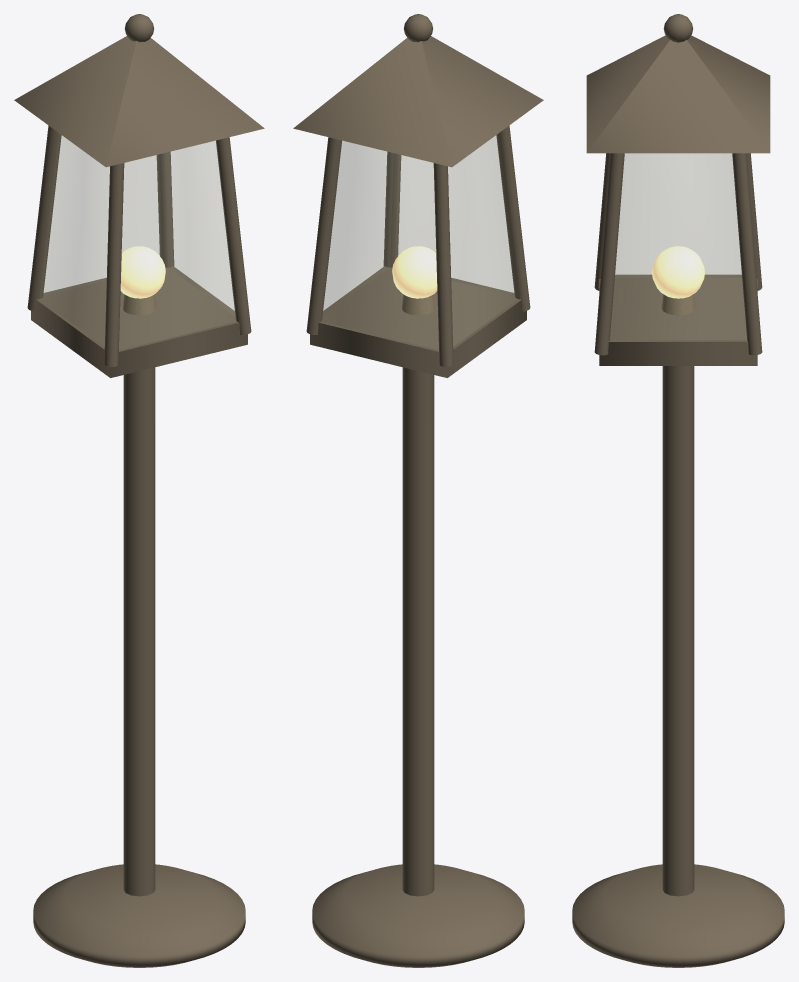
Rendered from lantern.glb.
3 renders of one model, left to right at view 1: azimuth 30°, elevation 25°; view 2: azimuth 150°, elevation 25°; view 3: azimuth 270°, elevation 25°, orthographic.
Visible parts, largest first — view 1: four-sided-lantern-glass, pitched-lantern-roof, continuous-lantern-post, planted-lantern-base, receiving-lantern-floor, lantern-corner--1-1, lantern-corner-1-1, lantern-corner--1--1, protected-lantern-bulb-globe, lantern-corner-1--1, lantern-roof-finial, protected-lantern-bulb-socket; view 2: four-sided-lantern-glass, pitched-lantern-roof, continuous-lantern-post, planted-lantern-base, receiving-lantern-floor, lantern-corner--1--1, lantern-corner-1--1, lantern-corner--1-1, protected-lantern-bulb-globe, lantern-corner-1-1, lantern-roof-finial, protected-lantern-bulb-socket; view 3: four-sided-lantern-glass, pitched-lantern-roof, continuous-lantern-post, planted-lantern-base, receiving-lantern-floor, lantern-corner-1--1, lantern-corner-1-1, protected-lantern-bulb-globe, lantern-corner--1--1, lantern-corner--1-1, lantern-roof-finial, protected-lantern-bulb-socket.
Part boxes in pixels (x1,y1,x2,y2): four-sided-lantern-glass: (40,134,235,349); pitched-lantern-roof: (14,36,264,167); continuous-lantern-post: (123,305,155,896); planted-lantern-base: (33,864,245,967); receiving-lantern-floor: (31,266,247,377); lantern-corner--1-1: (104,163,124,366); lantern-corner-1-1: (216,137,251,334); lantern-corner--1--1: (27,125,61,311); protected-lantern-bulb-globe: (120,246,165,298); lantern-corner-1--1: (156,152,174,267); lantern-roof-finial: (124,14,154,42); protected-lantern-bulb-socket: (123,294,155,315); four-sided-lantern-glass: (322,134,517,349); pitched-lantern-roof: (293,36,543,167); continuous-lantern-post: (402,305,434,896); planted-lantern-base: (312,864,524,967); receiving-lantern-floor: (310,266,526,377); lantern-corner--1--1: (433,163,453,366); lantern-corner-1--1: (306,137,341,334); lantern-corner--1-1: (496,125,530,311); protected-lantern-bulb-globe: (392,246,437,298); lantern-corner-1-1: (383,152,401,267); lantern-roof-finial: (403,14,433,42); protected-lantern-bulb-socket: (402,294,434,315); four-sided-lantern-glass: (610,153,746,339); pitched-lantern-roof: (586,35,770,153); continuous-lantern-post: (662,305,694,896); planted-lantern-base: (572,864,784,967); receiving-lantern-floor: (599,274,757,365); lantern-corner-1--1: (732,153,762,355); lantern-corner-1-1: (594,153,624,355); protected-lantern-bulb-globe: (652,246,704,298); lantern-corner--1--1: (746,153,762,290); lantern-corner--1-1: (594,153,610,290); lantern-roof-finial: (663,14,693,42); protected-lantern-bulb-socket: (661,294,695,315).
Bounding box in the file's own units: 0.36 × 1.71 × 0.36.
